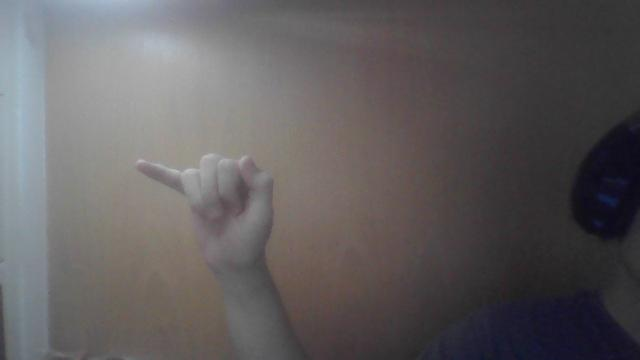Right: (132, 151, 284, 263)
